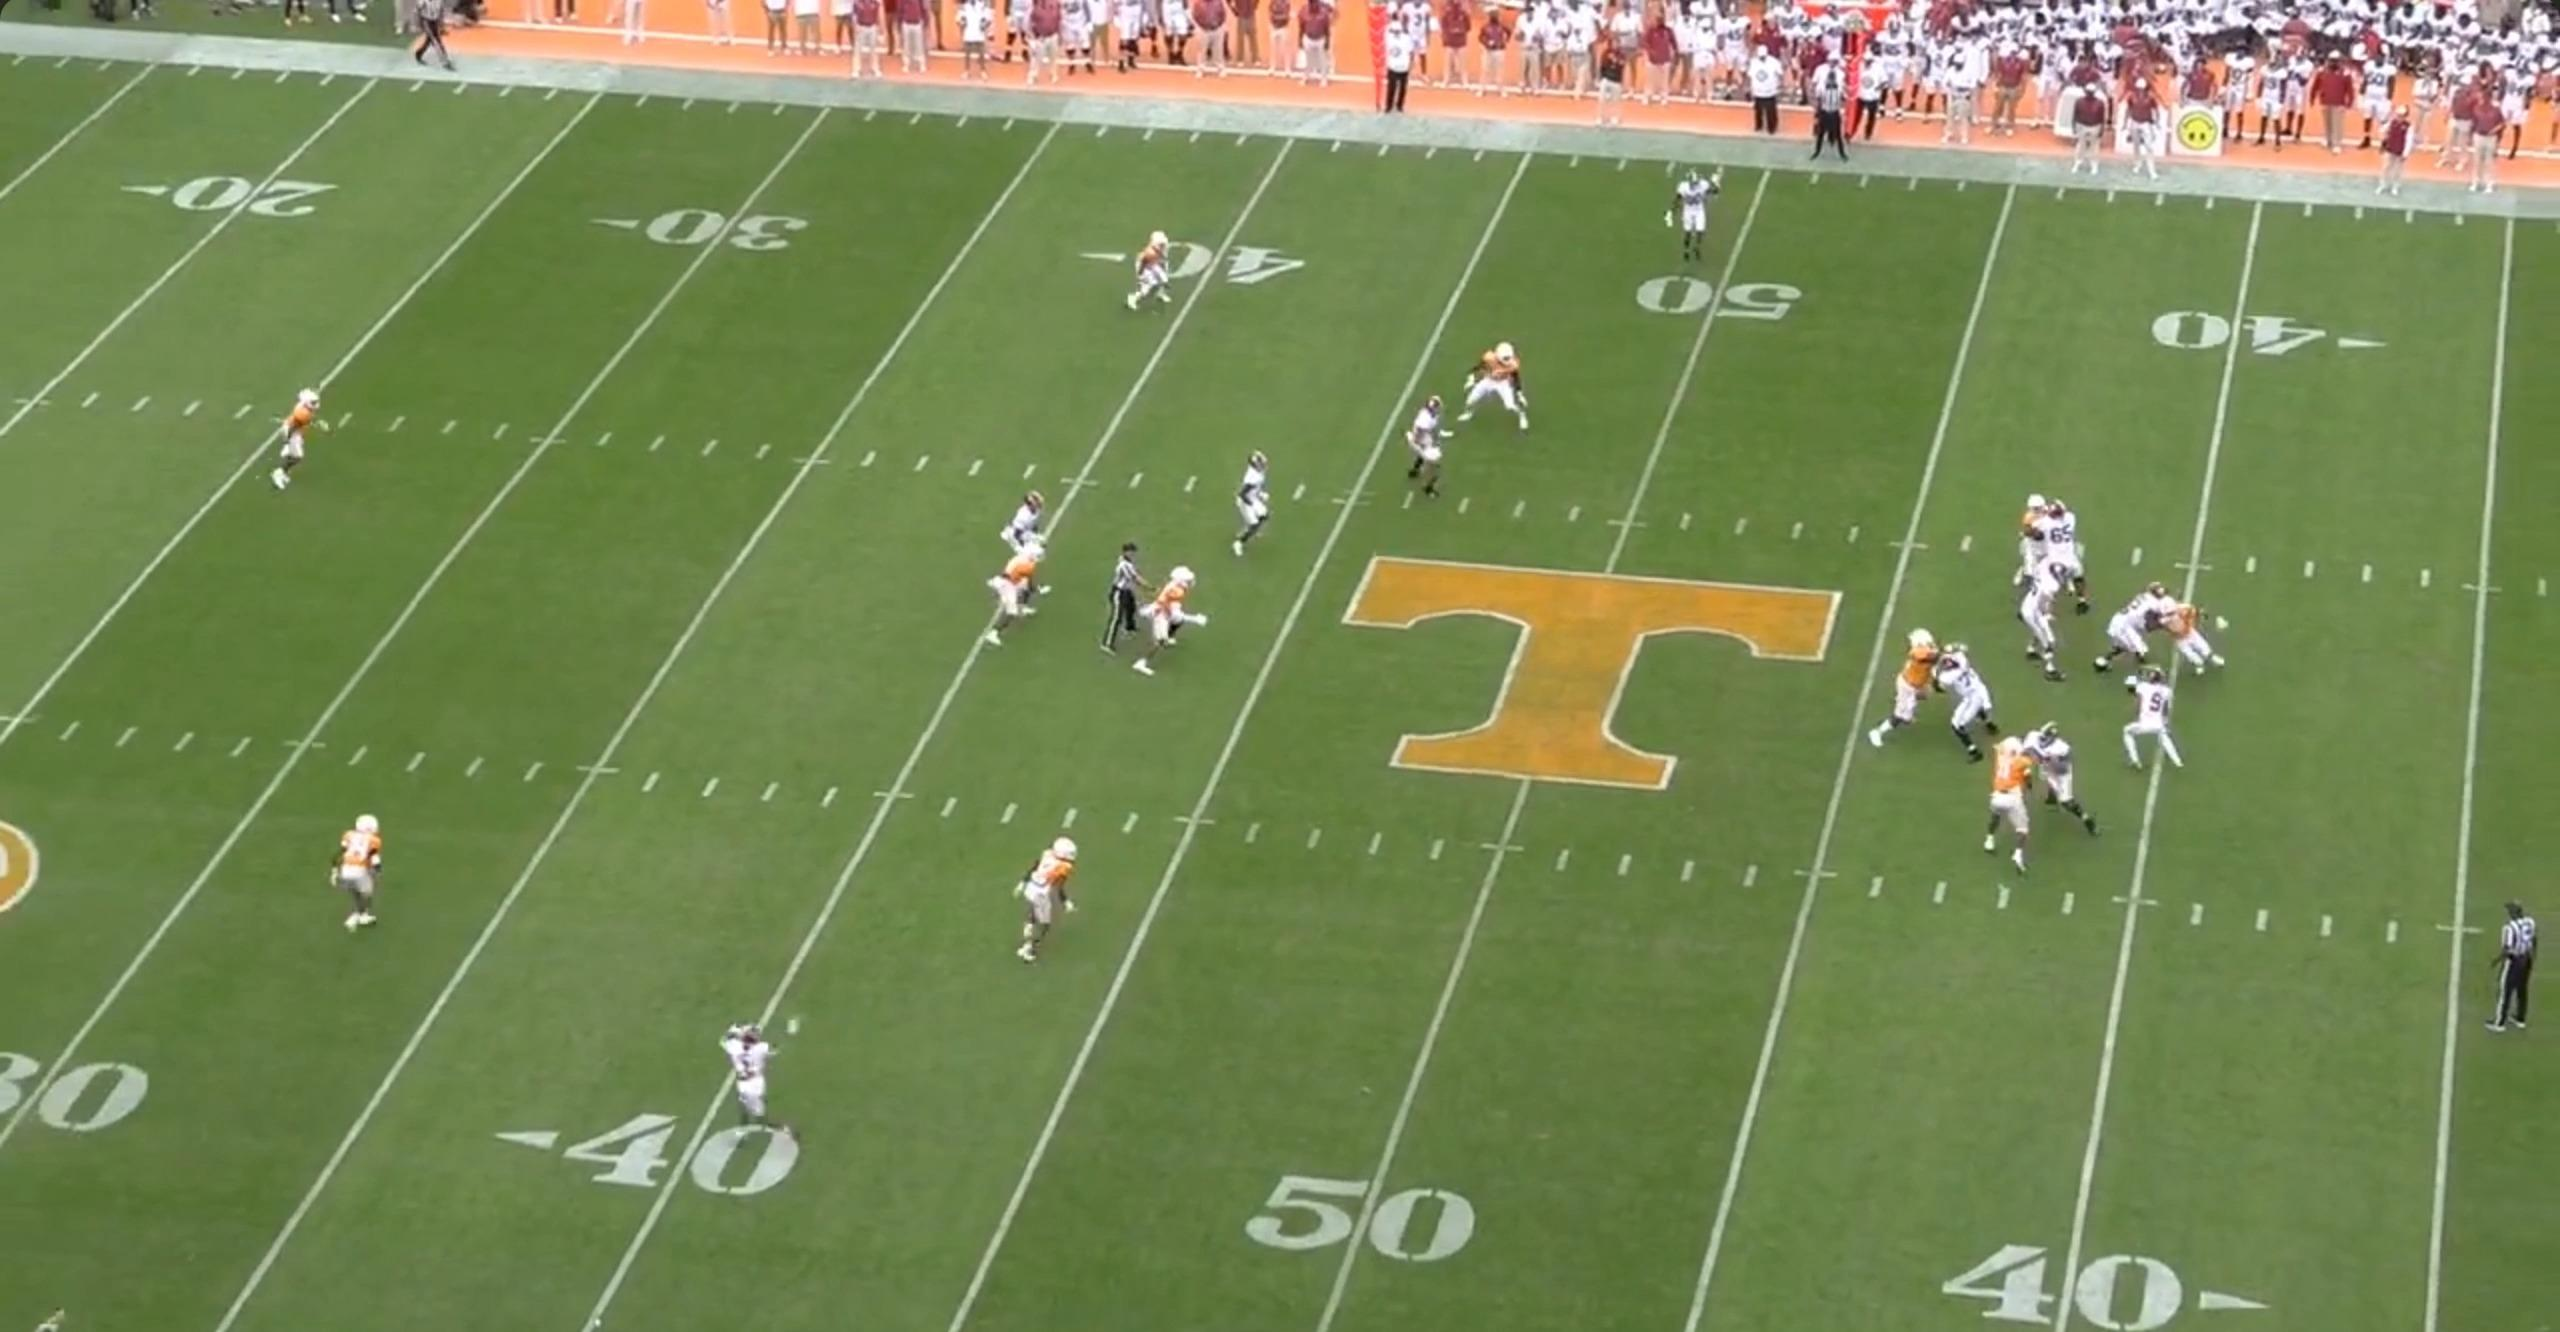defense: (1011, 828, 1087, 963), (1878, 630, 1954, 758), (1136, 565, 1217, 682), (1972, 733, 2033, 875), (1449, 335, 1527, 438), (985, 537, 1055, 648), (335, 812, 396, 939), (268, 386, 334, 494), (2166, 582, 2237, 682), (1119, 227, 1175, 316), (2013, 494, 2054, 589)
oline: (2086, 572, 2166, 684), (1935, 643, 2003, 768), (2032, 724, 2103, 839), (2015, 555, 2077, 682), (2027, 503, 2093, 619)
qb: (2121, 662, 2186, 779)
ref: (2486, 904, 2546, 1043), (1095, 543, 1150, 669), (1795, 68, 1851, 174), (410, 0, 464, 78)
skill: (720, 1010, 782, 1137), (1399, 394, 1461, 503), (997, 487, 1055, 601), (1658, 168, 1719, 269), (1228, 450, 1278, 564)
